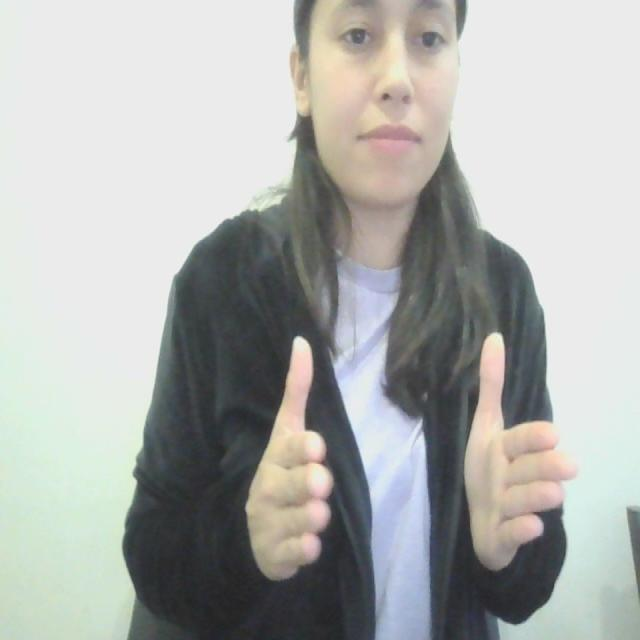Nasil: (243, 330, 582, 607)
